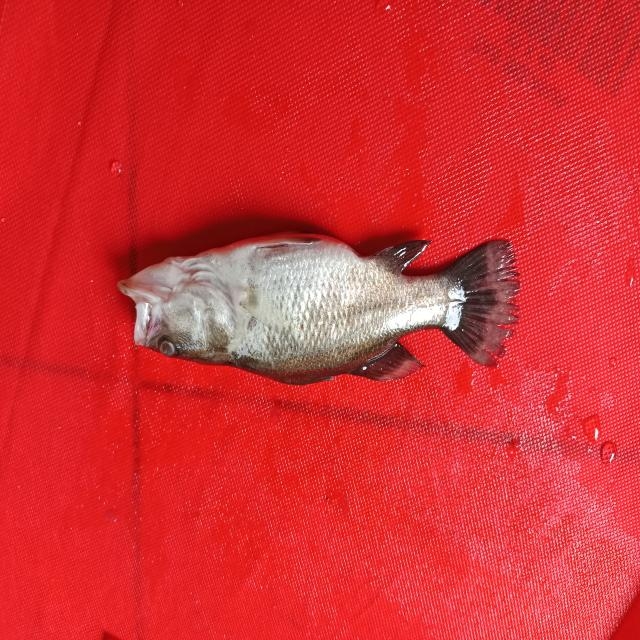ikan: (115, 196, 534, 402)
